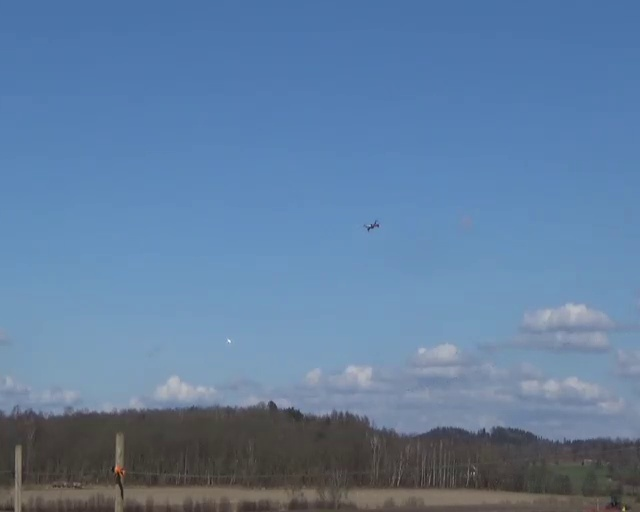DRONE: (363, 219, 380, 231)
